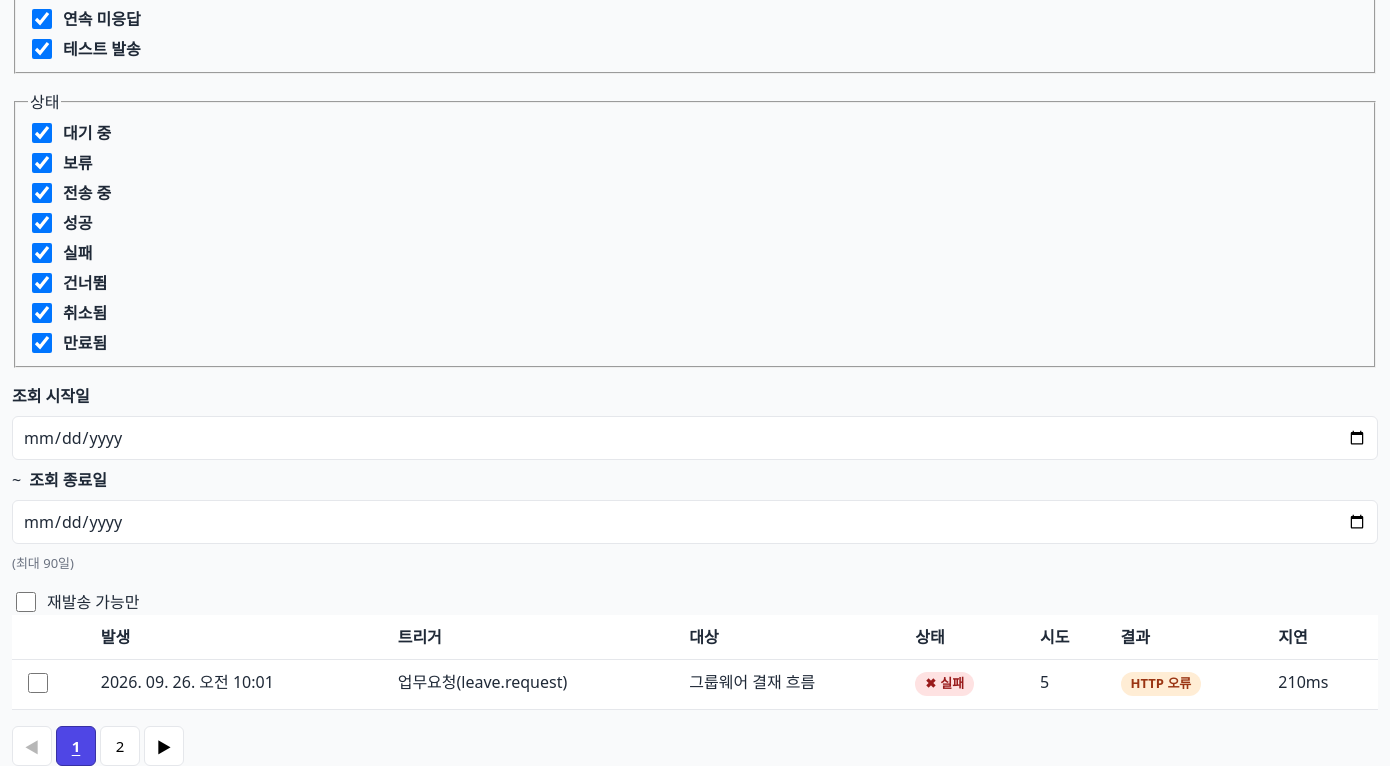
Test case: ChatbotWorkflowRunsPage — 재발송/취소 › 코드리뷰 R1 L-5 — 페이지를 바꾸면 선택이 초기화된다
(page scrolled)
Check: the text "그룹웨어 결재 흐름" is shown, box [677,660,903,710]
Click the checkbox named "7f1c2e3a-aaaa-4aaa-8aaa-aaaaaaaaaaaa 선택": coordinates (38, 683) [28,673,48,693]
(page scrolled)
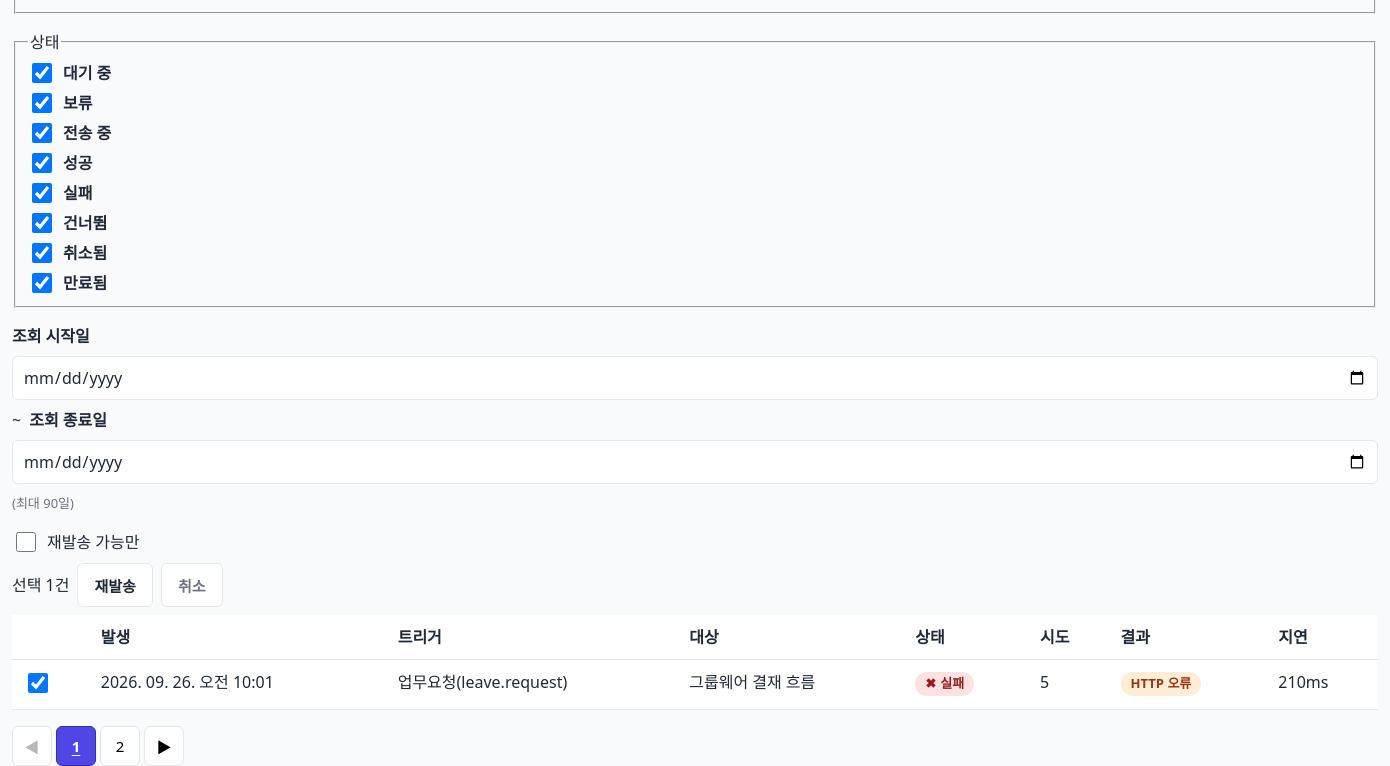
Check: the text "선택 1건" is shown, box [12,573,70,597]
Click the button named "다음 페이지": coordinates (164, 746) [144,726,184,765]
(page scrolled)
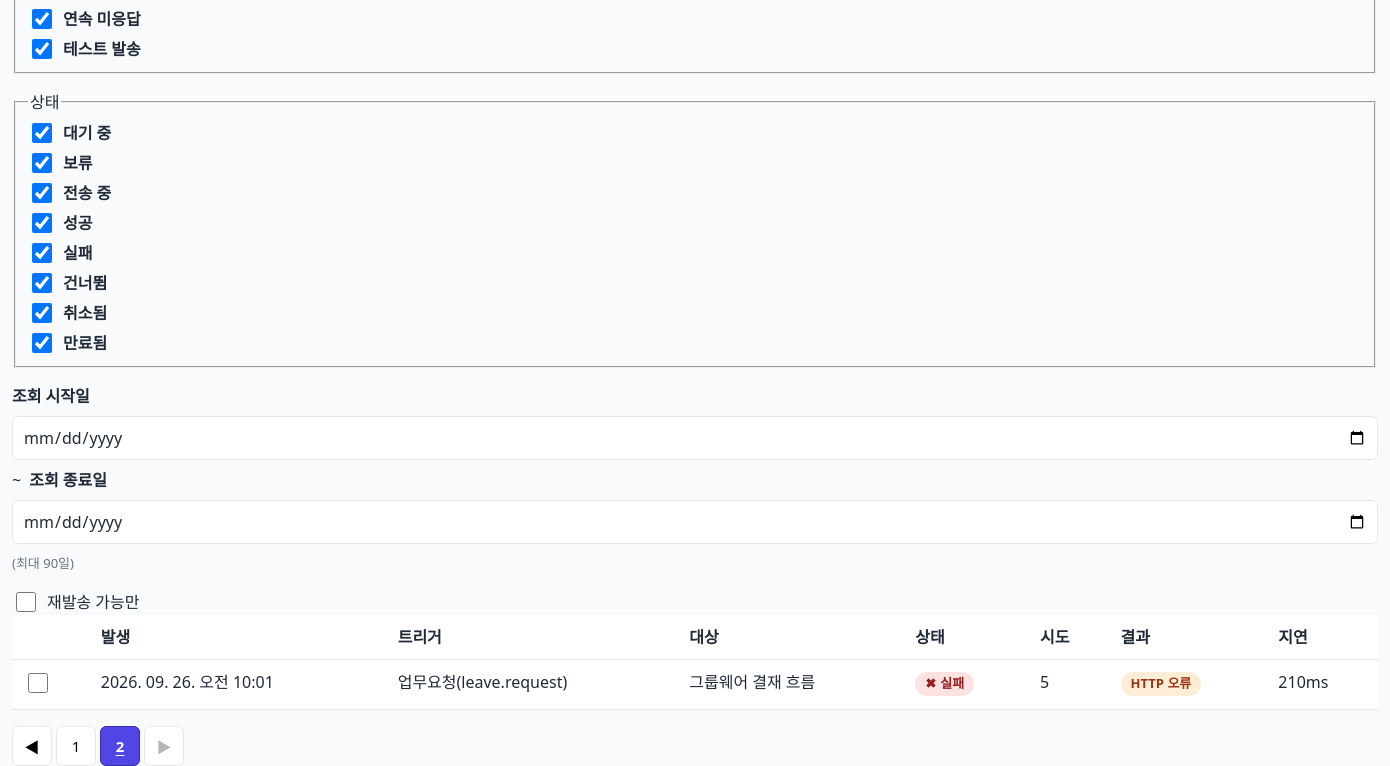
Check: the text "선택 1건" is gone
